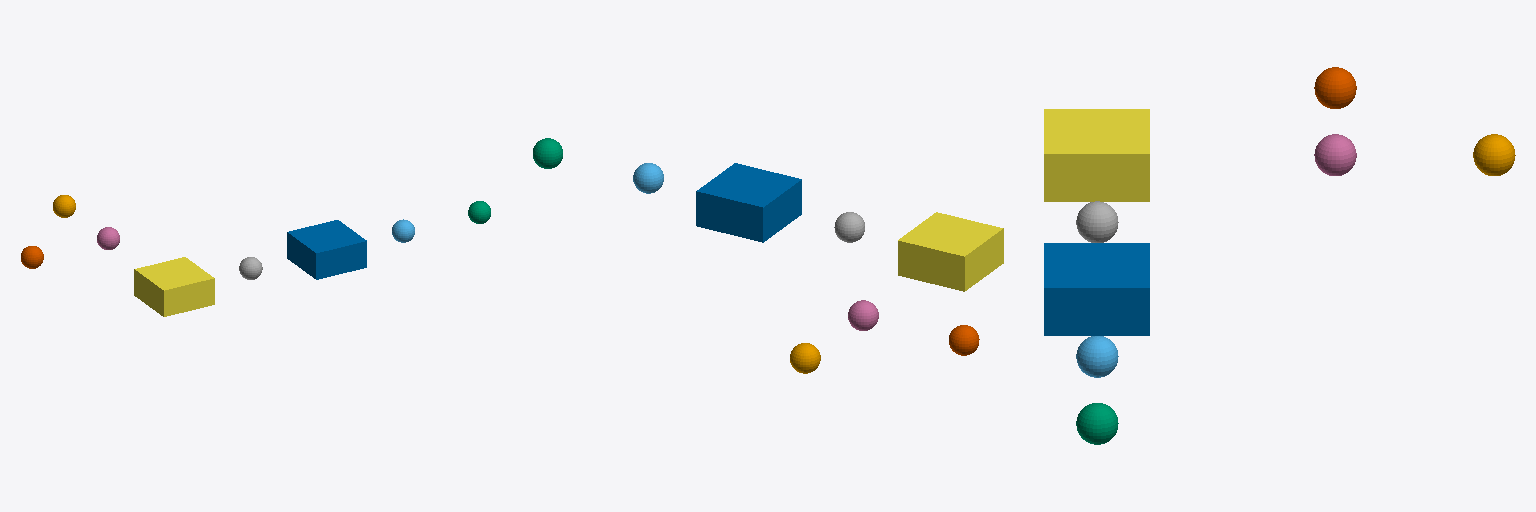
URDF robot description (automatic_control_means_for_operating_a_machine_to_a_succession_):
<?xml version="1.0" ?>
<robot name="automatic_control_means_for_operating_a_machine_to_a_succession_of_precisely_determined_positions">
  <link name="coaction_means">
    <visual>
      <geometry>
        <sphere radius="0.008"/>
      </geometry>
    </visual>
  </link>
  <link name="instruction_presenting_means">
    <visual>
      <geometry>
        <sphere radius="0.008"/>
      </geometry>
    </visual>
  </link>
  <link name="interposer_positioning_means">
    <visual>
      <geometry>
        <sphere radius="0.008"/>
      </geometry>
    </visual>
  </link>
  <link name="mechanical_output_device">
    <visual>
      <geometry>
        <box size="0.04 0.04 0.02"/>
      </geometry>
    </visual>
  </link>
  <link name="output_portion">
    <visual>
      <geometry>
        <box size="0.04 0.04 0.02"/>
      </geometry>
    </visual>
  </link>
  <link name="sensing_interposer">
    <visual>
      <geometry>
        <sphere radius="0.008"/>
      </geometry>
    </visual>
  </link>
  <link name="servo_input_control_member">
    <visual>
      <geometry>
        <sphere radius="0.008"/>
      </geometry>
    </visual>
  </link>
  <link name="servo_system">
    <visual>
      <geometry>
        <sphere radius="0.008"/>
      </geometry>
    </visual>
  </link>
  <joint name="_attach_sensing_interposer_to_instruction_presenting_means" type="fixed">
    <parent link="sensing_interposer"/>
    <child link="instruction_presenting_means"/>
    <origin xyz="0.2400 -0.0900 0.0000" rpy="0 0 0"/>
  </joint>
  <joint name="_attach_sensing_interposer_to_interposer_positioning_means" type="fixed">
    <parent link="sensing_interposer"/>
    <child link="interposer_positioning_means"/>
    <origin xyz="0.3000 -0.0900 0.0000" rpy="0 0 0"/>
  </joint>
  <joint name="_attach_sensing_interposer_to_mechanical_output_device" type="fixed">
    <parent link="sensing_interposer"/>
    <child link="mechanical_output_device"/>
    <origin xyz="0.0600 -0.0900 0.0000" rpy="0 0 0"/>
  </joint>
  <joint name="_attach_sensing_interposer_to_output_portion" type="fixed">
    <parent link="sensing_interposer"/>
    <child link="output_portion"/>
    <origin xyz="0.1800 -0.0900 0.0000" rpy="0 0 0"/>
  </joint>
  <joint name="_attach_sensing_interposer_to_servo_input_control_member" type="fixed">
    <parent link="sensing_interposer"/>
    <child link="servo_input_control_member"/>
    <origin xyz="0.0600 0.0000 0.0000" rpy="0 0 0"/>
  </joint>
  <joint name="_attach_sensing_interposer_to_servo_system" type="fixed">
    <parent link="sensing_interposer"/>
    <child link="servo_system"/>
    <origin xyz="0.1200 -0.0900 0.0000" rpy="0 0 0"/>
  </joint>
  <joint name="_attach_servo_input_control_member_to_coaction_means" type="fixed">
    <parent link="servo_input_control_member"/>
    <child link="coaction_means"/>
    <origin xyz="0.0000 0.0600 0.0000" rpy="0 0 0"/>
  </joint>
</robot>

--- Facts derived from the render (not from the file) ---
The picture shows the robot from 3 angles, left to right: view 1: azimuth 30°, elevation 25°; view 2: azimuth 150°, elevation 25°; view 3: azimuth 270°, elevation 25°; orthographic projection.
Robot: automatic_control_means_for_operating_a_machine_to_a_succession_ — 8 links, 7 joints (7 fixed); root link sensing_interposer; default pose: all joints at 0.
Links seen in each view (by area): view 1: mechanical_output_device, output_portion; view 2: output_portion, mechanical_output_device, coaction_means, instruction_presenting_means, servo_input_control_member, servo_system, sensing_interposer, interposer_positioning_means; view 3: output_portion, mechanical_output_device, coaction_means, instruction_presenting_means, servo_input_control_member, interposer_positioning_means, sensing_interposer, servo_system.
Boxes of the visible links, x1,y1,x2,y2 form: mechanical_output_device: [134, 257, 214, 316]; output_portion: [287, 220, 366, 279]; output_portion: [696, 163, 801, 242]; mechanical_output_device: [898, 212, 1003, 291]; coaction_means: [790, 343, 820, 373]; instruction_presenting_means: [633, 163, 663, 193]; servo_input_control_member: [848, 300, 878, 330]; servo_system: [834, 212, 864, 242]; sensing_interposer: [949, 325, 979, 355]; interposer_positioning_means: [533, 138, 562, 168]; output_portion: [1044, 243, 1149, 335]; mechanical_output_device: [1044, 109, 1149, 201]; coaction_means: [1473, 134, 1515, 175]; instruction_presenting_means: [1076, 336, 1118, 377]; servo_input_control_member: [1314, 134, 1356, 175]; interposer_positioning_means: [1076, 403, 1118, 444]; sensing_interposer: [1314, 67, 1356, 108]; servo_system: [1076, 201, 1118, 242].
Size in the robot's own frame: 0.316 by 0.178 by 0.02 metres.
Geometry: primitives only (box / cylinder / sphere), no mesh files.
